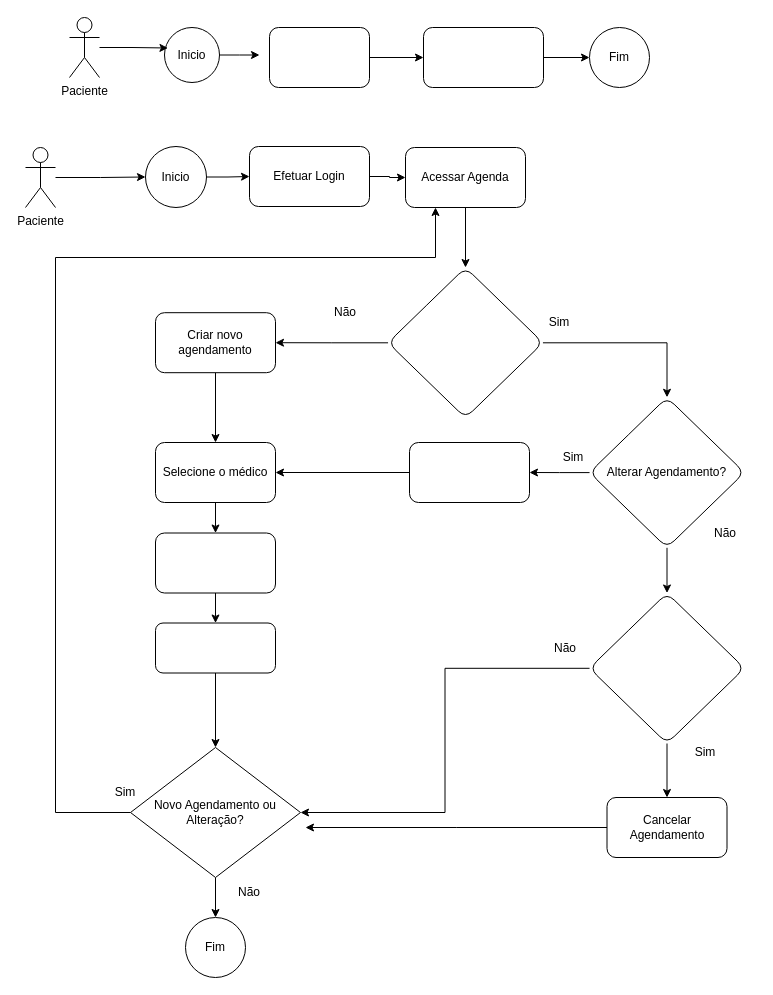
This 773x995 diagram has some shape labels left out. Here are the shapes that lost their labels. From the top down, the centre of each, then its label:
(319,57): Cria Cadastro
(483,57): Cria Login
(465,342): Acessar Agendamento existente?
(469,472): Abrir agendamento
(215,562): Selecione a data
(215,647): Confirmar
(666,668): Cancelar Agendamento?
